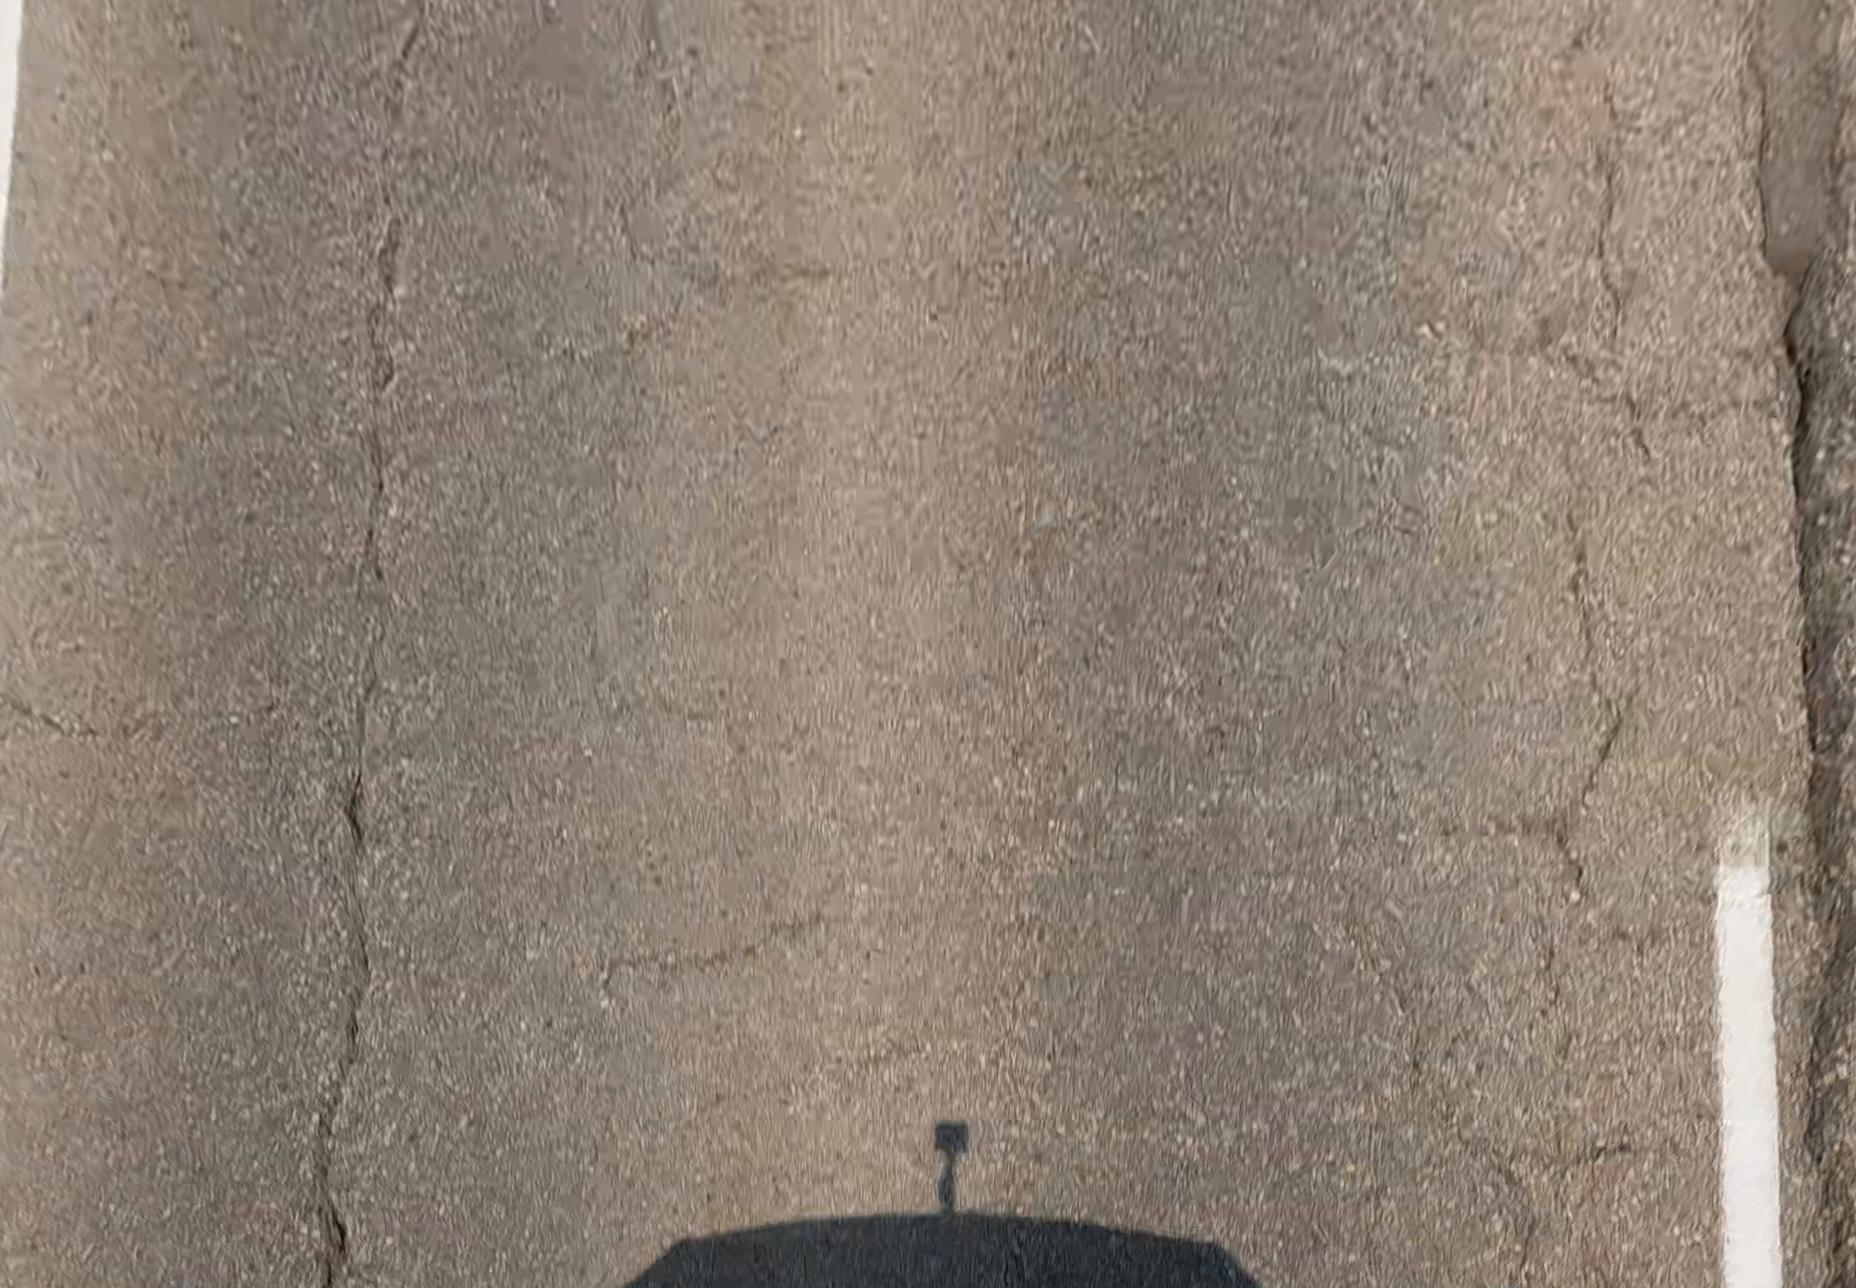pothole_patch_good: (1762, 0, 1856, 286)
